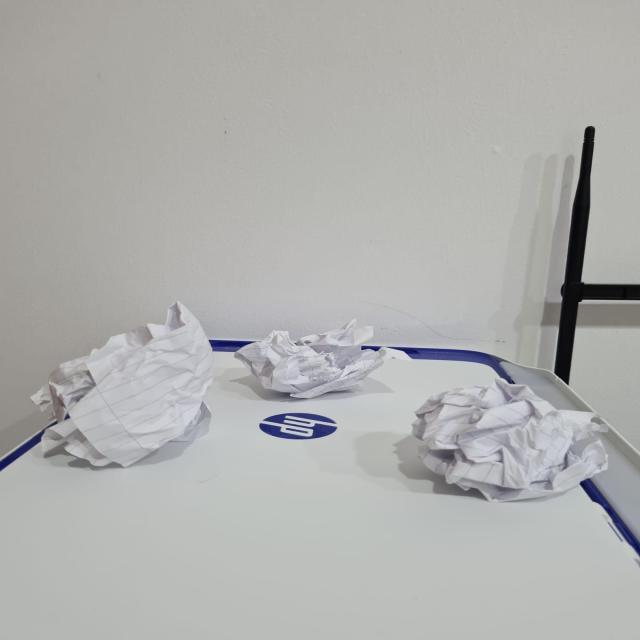trash: (419, 374, 605, 504), (58, 309, 220, 456), (237, 317, 397, 398)
